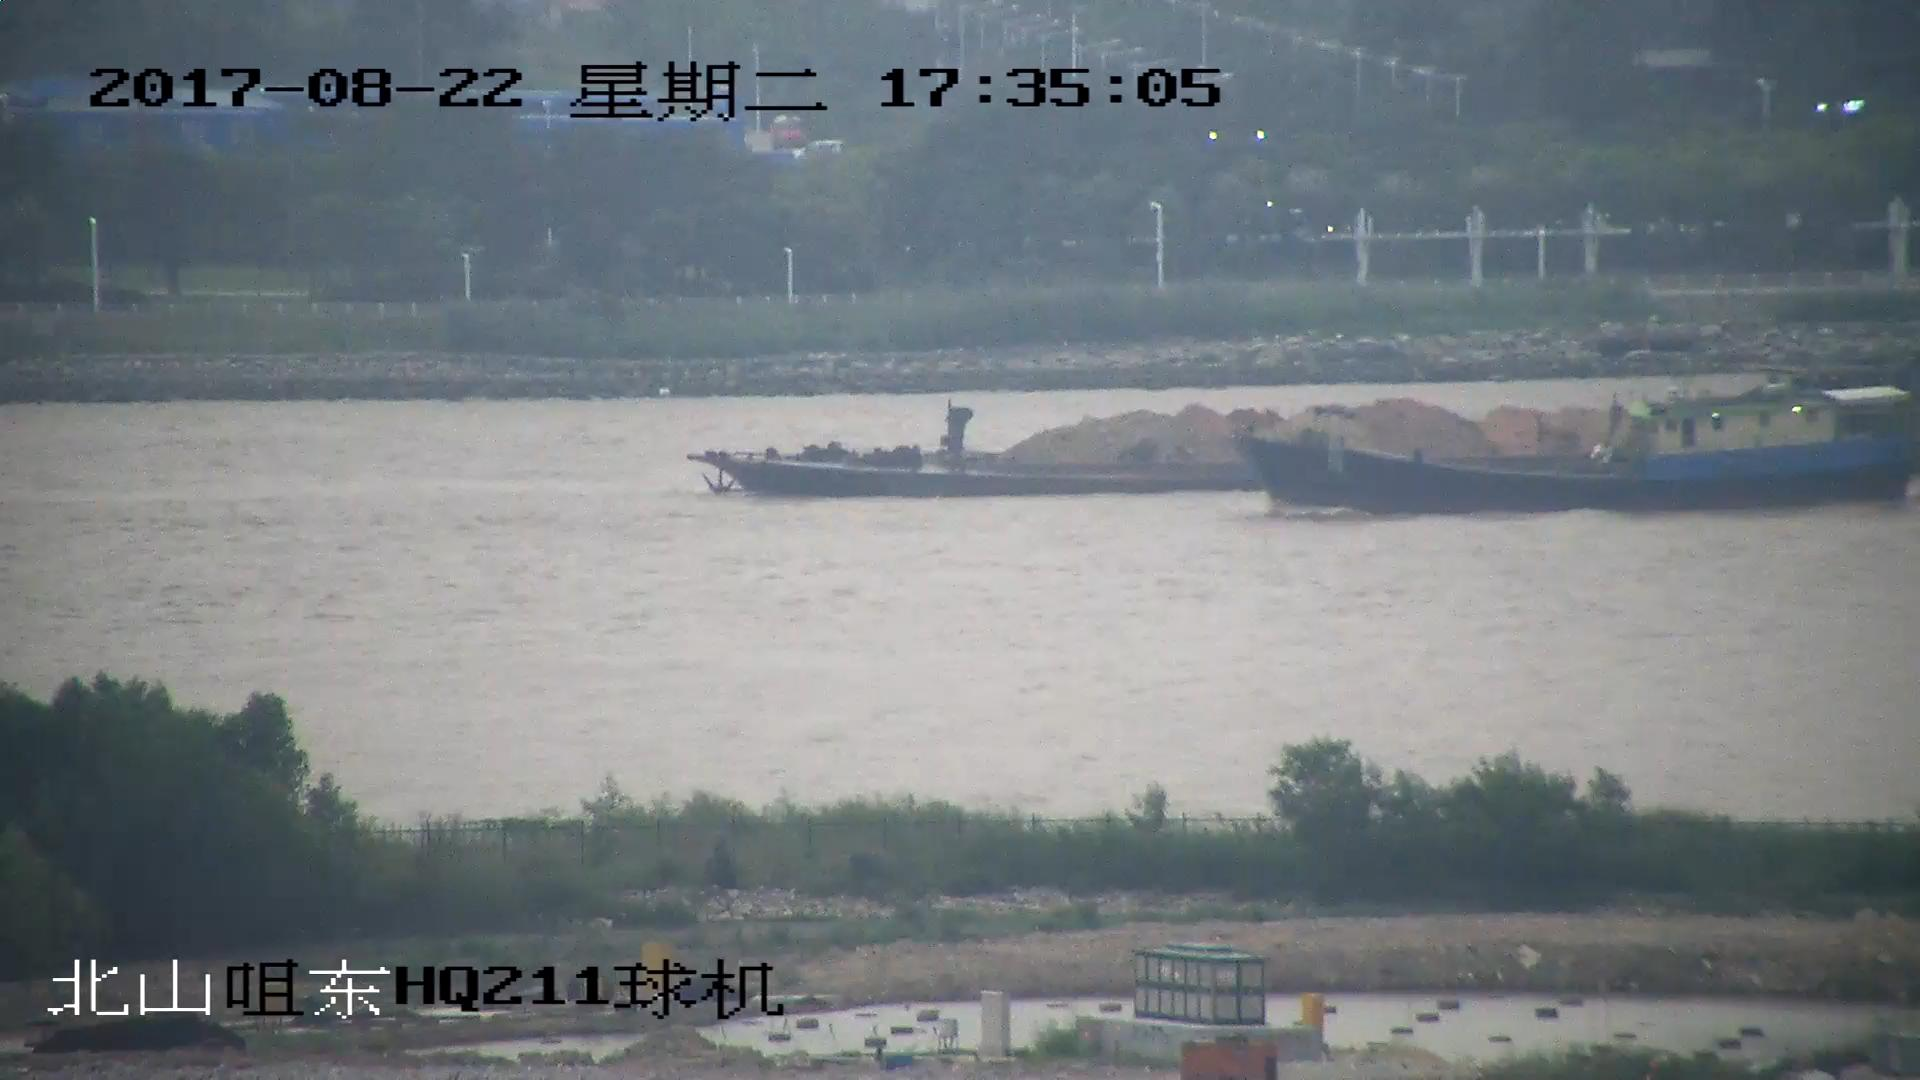fishing boat: (1251, 388, 1920, 513)
ore carrier: (697, 384, 1920, 500)
